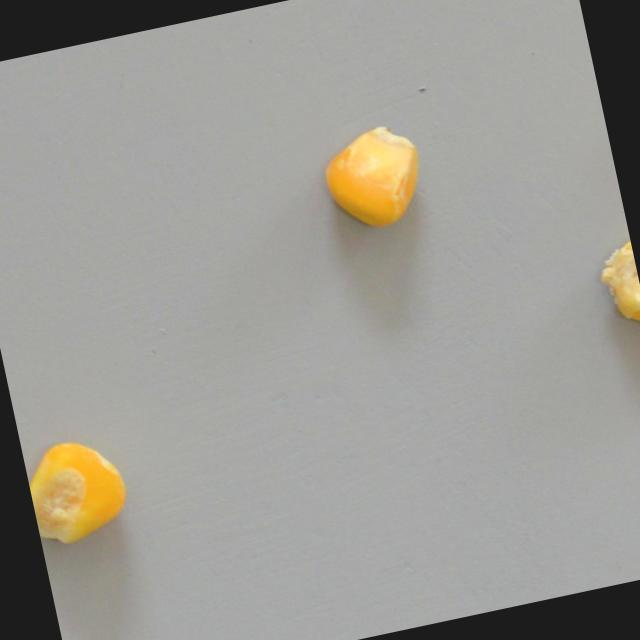entero: (585, 234, 640, 370)
no_desgerminado: (20, 428, 137, 553)
punto_negro: (314, 114, 434, 241)
